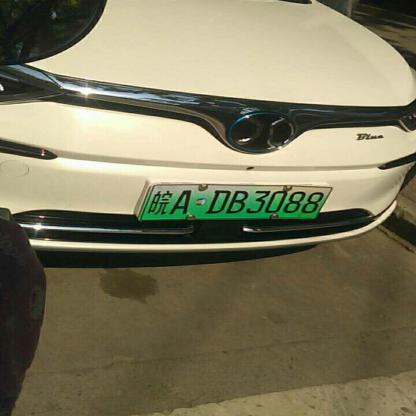lp: (141, 185, 331, 219)
